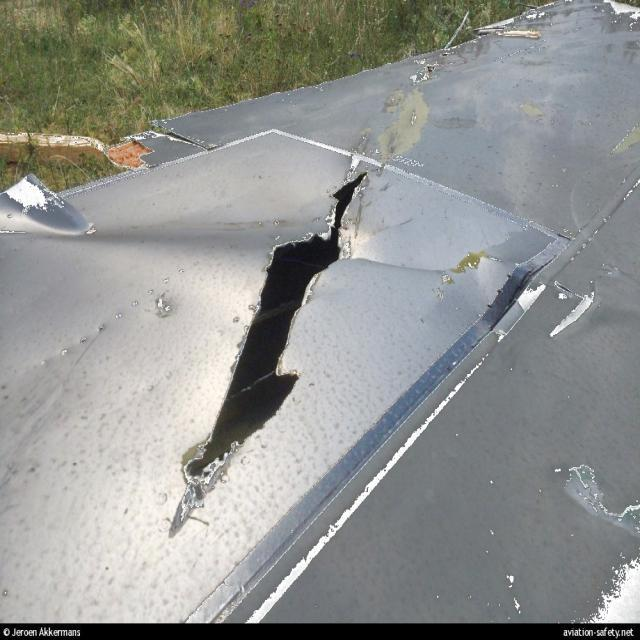crack: (180, 170, 371, 523), (412, 111, 419, 127)
